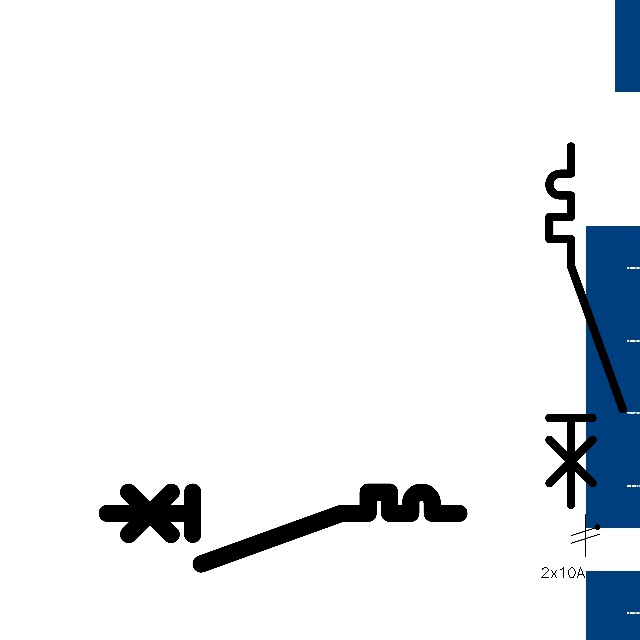interruptor_termomagnetico: (540, 137, 632, 514), (98, 483, 468, 573)
